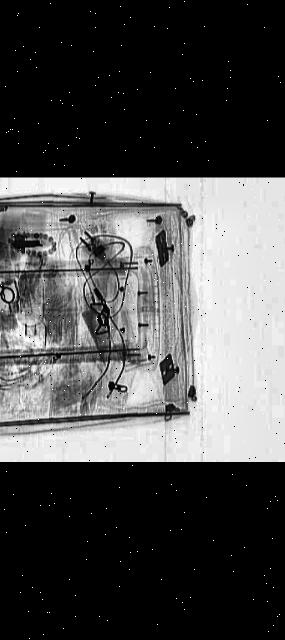Scissors: (0, 249, 19, 306)
